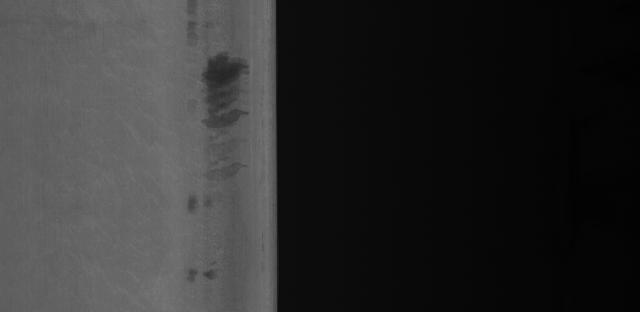oil_spot: (199, 50, 253, 182), (180, 184, 228, 286), (182, 2, 208, 54)
